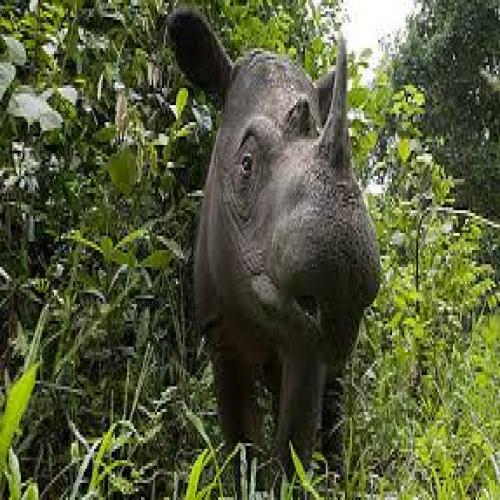rhino-endangered: (169, 8, 384, 471)
